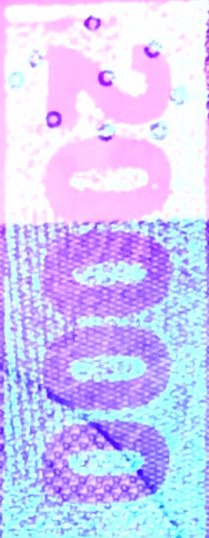20_RIBU_ASLI: (5, 2, 209, 496)
